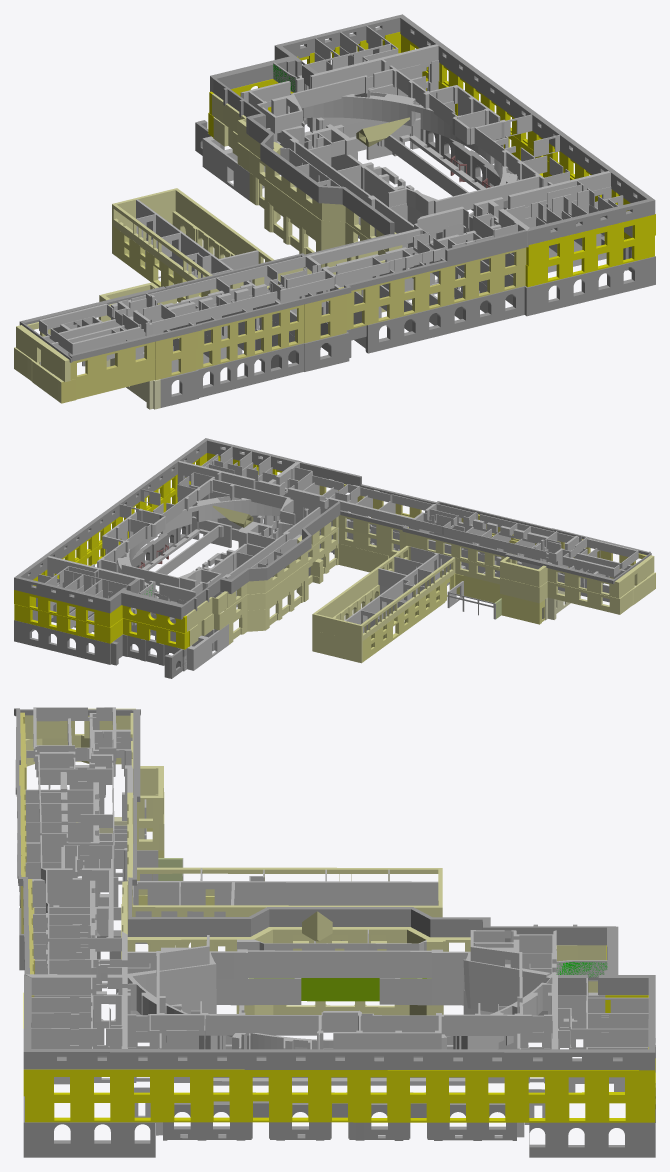
File: Building2.glb
3 views of the same model, one above another, from view 1: azimuth 30°, elevation 25°; view 2: azimuth 150°, elevation 25°; view 3: azimuth 270°, elevation 25° (orthographic). The views are drawn at different scales.
Size of the model in its own units: 88.65 by 15.94 by 66.3.
